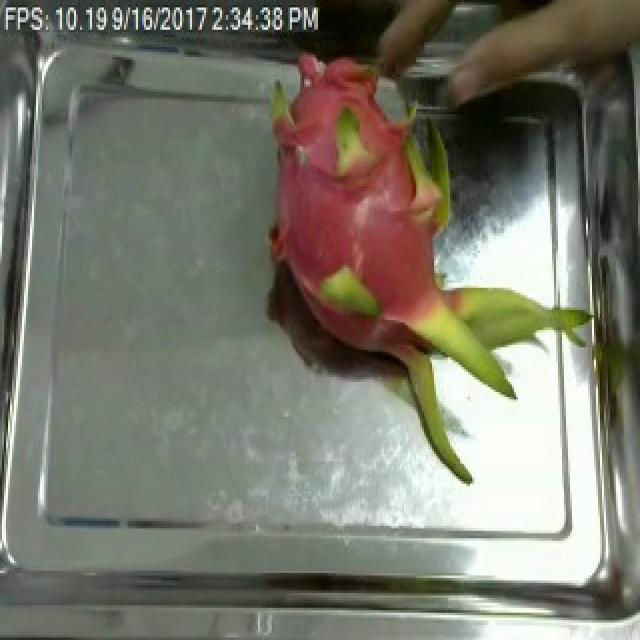fruit: (250, 32, 576, 456)
